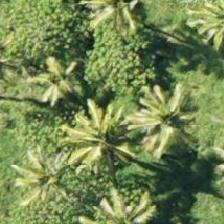coconut_tree: (58, 101, 148, 191), (119, 78, 209, 168), (14, 37, 104, 127), (71, 0, 161, 53)
